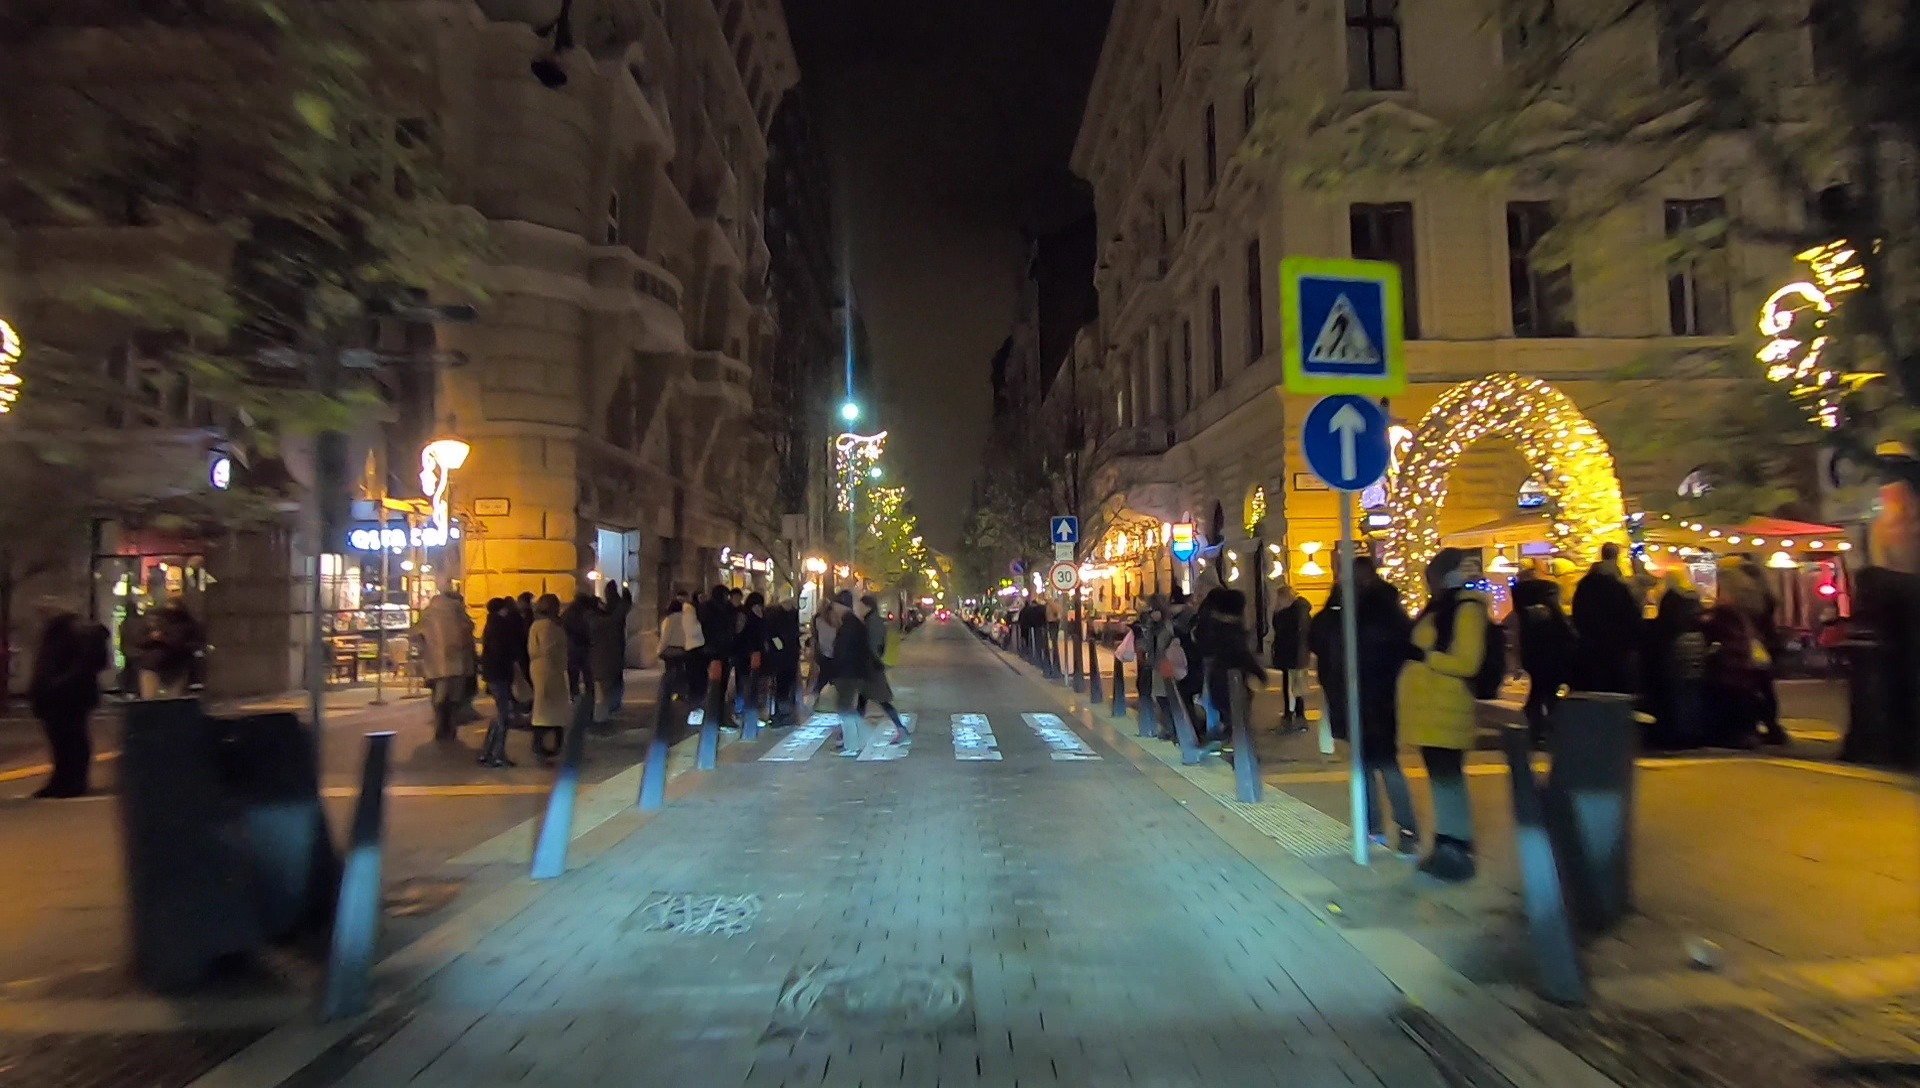person: (1398, 553, 1495, 883), (1315, 555, 1423, 853), (1577, 541, 1648, 763), (26, 598, 98, 802), (1513, 560, 1576, 751), (1715, 563, 1775, 749), (1657, 569, 1713, 764), (858, 590, 917, 753), (1185, 572, 1235, 755), (425, 580, 472, 751), (527, 587, 573, 761), (1206, 595, 1253, 765), (134, 607, 184, 744), (1127, 595, 1172, 745), (1276, 596, 1322, 732), (1275, 587, 1318, 729), (484, 594, 517, 769), (699, 580, 737, 730), (595, 579, 634, 719), (831, 591, 860, 759), (773, 596, 803, 719), (741, 595, 769, 728)
